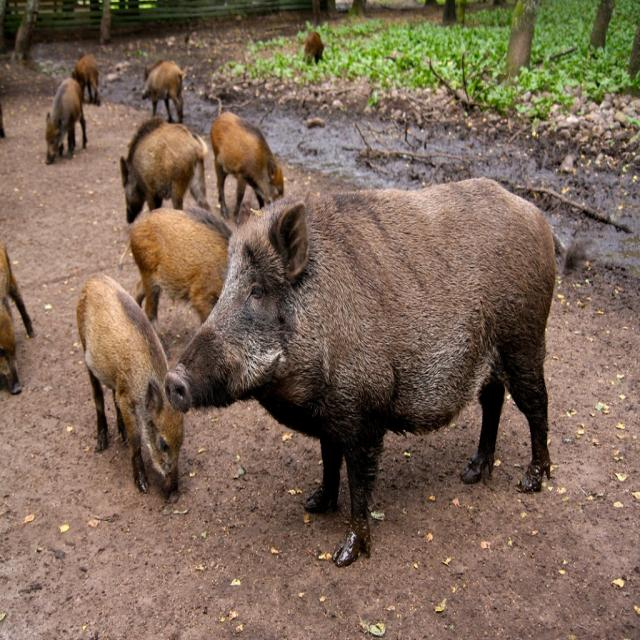Pig: (165, 189, 557, 570), (76, 270, 186, 504), (118, 208, 230, 350), (120, 117, 208, 225), (208, 110, 286, 226), (0, 232, 36, 398), (46, 76, 86, 162), (140, 59, 182, 125), (72, 54, 101, 104), (301, 32, 326, 64)
